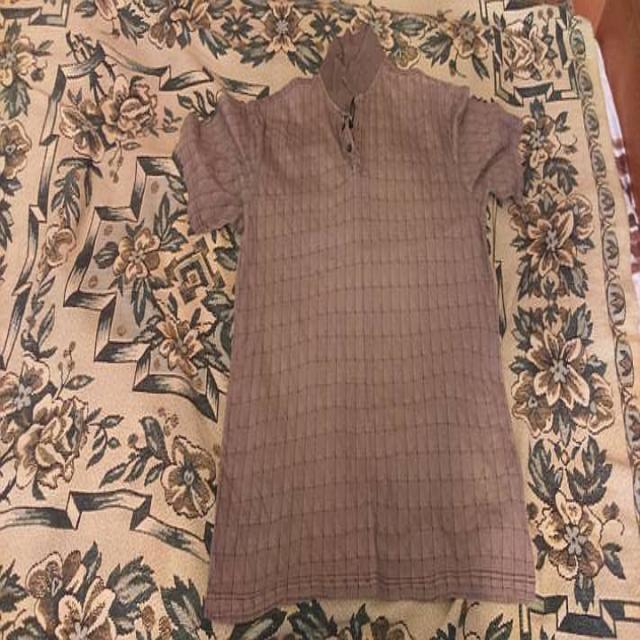T_SHIRT: (153, 22, 567, 629)
